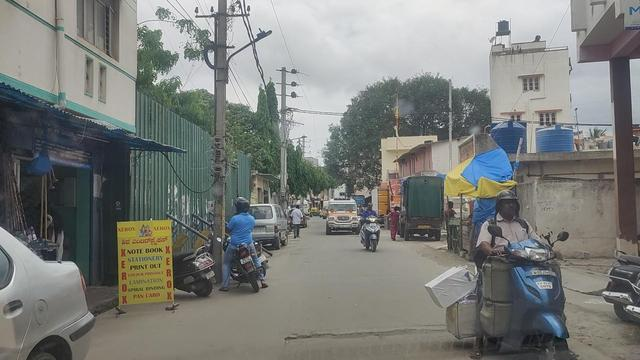LMV: (222, 195, 263, 298), (363, 200, 382, 253)
RoadDamages: (289, 321, 447, 348)
